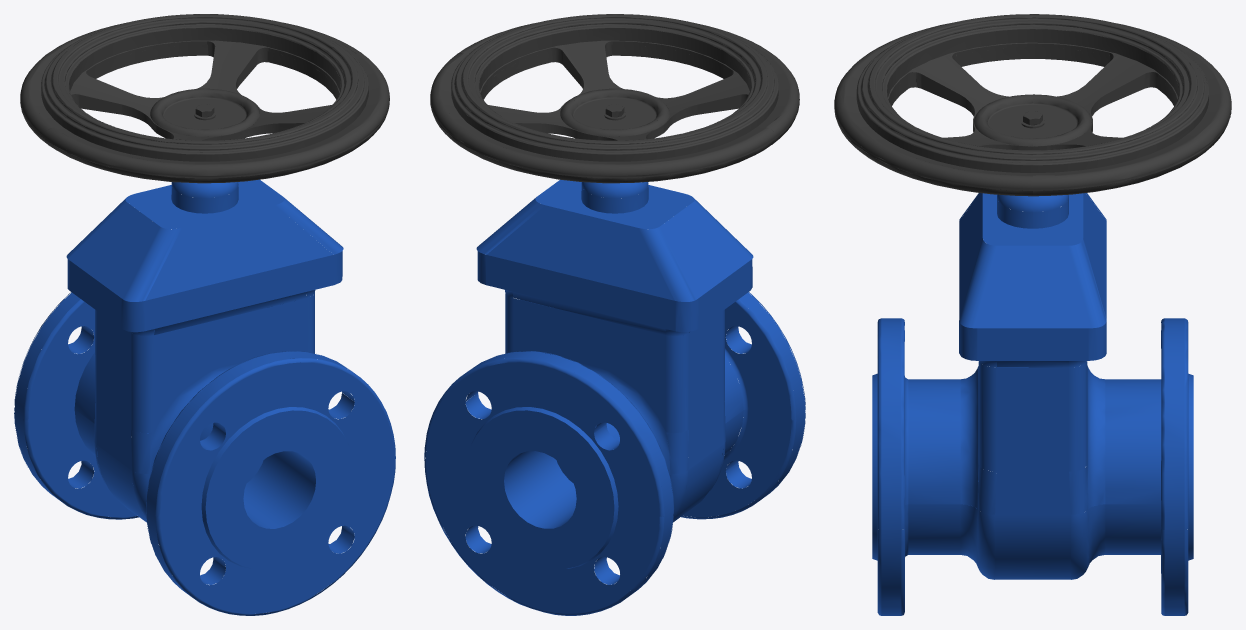
Rendered from 末端开关阀.glb.
The picture shows the model from 3 angles, left to right: view 1: azimuth 30°, elevation 25°; view 2: azimuth 150°, elevation 25°; view 3: azimuth 270°, elevation 25°; orthographic projection. The views are drawn at different scales.
Visible parts, largest first — view 1: 设备073; view 2: 设备073; view 3: 设备073.
Part boxes in pixels (<box>): 设备073: <box>14,14,395,615</box>; 设备073: <box>424,14,805,615</box>; 设备073: <box>834,14,1231,615</box>.
Size of the model in its own units: 0.2624 by 0.378 by 0.2623.
